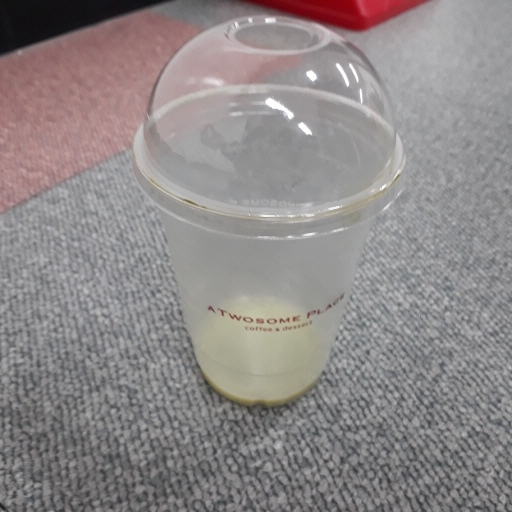Plastic_2: (132, 14, 407, 407)
